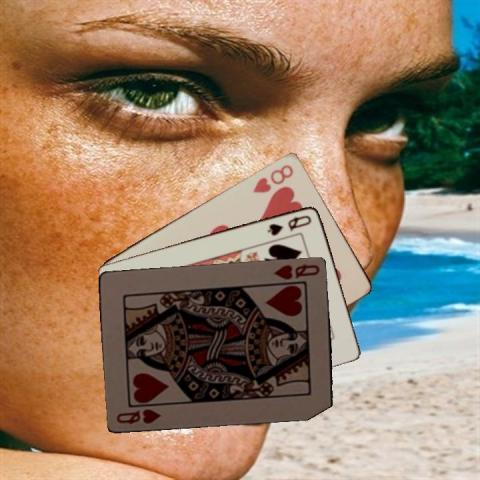8h: (250, 161, 295, 194)
Qh: (271, 260, 321, 281), (113, 406, 163, 426)
Qs: (264, 212, 313, 237)
